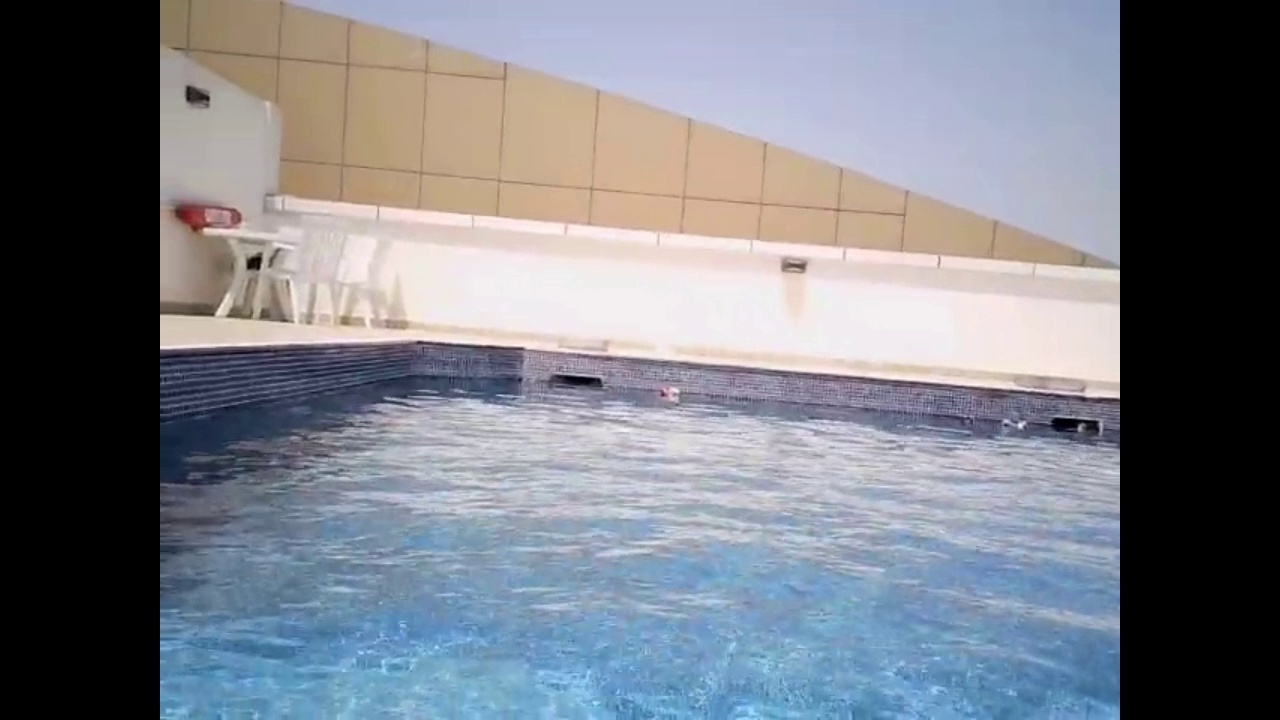debris: (662, 383, 682, 403), (997, 417, 1018, 434), (1012, 419, 1030, 435), (958, 414, 976, 430), (1074, 420, 1088, 435), (657, 387, 670, 400)
